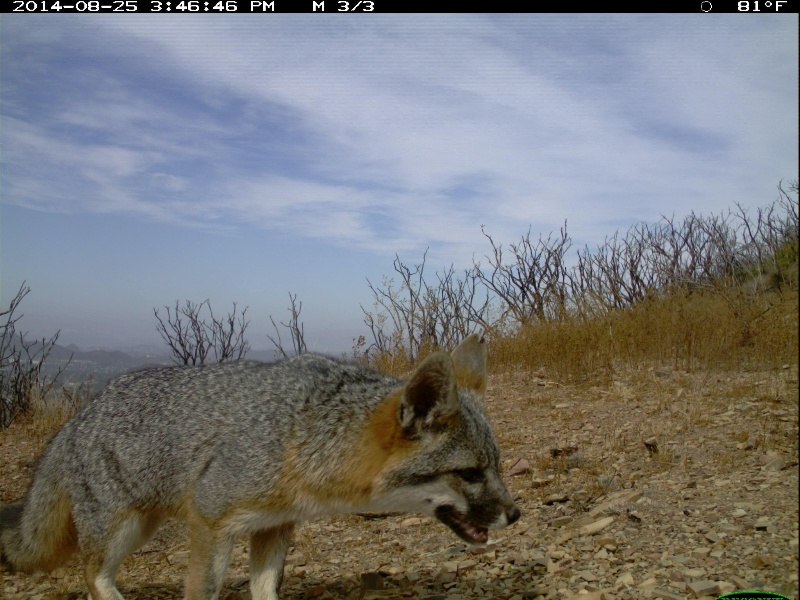coyote: (1, 326, 521, 595)
